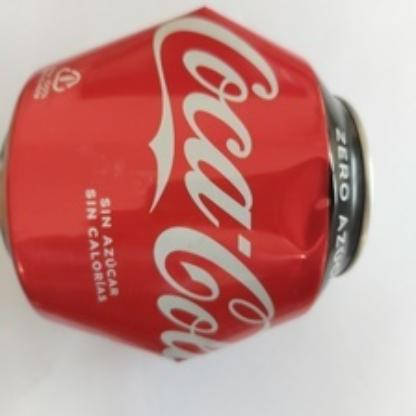Can: (0, 5, 372, 363)
